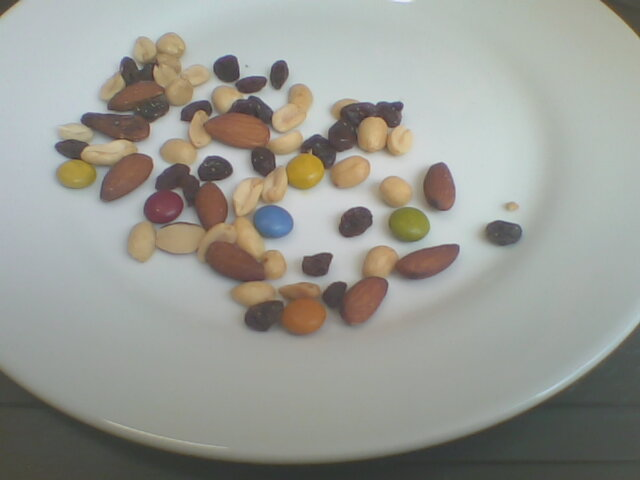almond: (100, 153, 153, 202), (396, 242, 461, 281), (340, 275, 388, 325), (205, 113, 269, 149), (81, 111, 150, 141), (194, 181, 227, 234), (108, 81, 164, 112), (424, 161, 455, 211)
mm: (282, 298, 325, 335), (388, 207, 431, 241), (286, 153, 325, 189), (144, 189, 184, 222), (254, 205, 293, 238), (57, 159, 97, 189)
peanut: (156, 222, 211, 254), (232, 217, 264, 264), (197, 223, 235, 262), (363, 246, 398, 281), (331, 156, 370, 187), (231, 281, 277, 307), (128, 221, 157, 261), (233, 177, 262, 217), (258, 166, 288, 204), (357, 116, 388, 152), (271, 103, 308, 133), (380, 175, 413, 207), (161, 139, 198, 165), (266, 129, 303, 155), (80, 144, 125, 165), (188, 110, 212, 148), (213, 85, 244, 113), (277, 282, 321, 301), (164, 78, 193, 105), (98, 72, 125, 101), (154, 32, 185, 56), (262, 250, 286, 280), (388, 126, 412, 156), (153, 63, 178, 91), (288, 83, 313, 111), (58, 123, 94, 142), (331, 97, 363, 118), (181, 64, 210, 86), (155, 52, 181, 76), (134, 36, 156, 62), (108, 139, 137, 156)
raisin: (245, 299, 285, 332), (304, 134, 336, 170), (155, 163, 192, 192), (339, 207, 373, 238), (133, 95, 169, 122), (485, 220, 521, 246), (197, 156, 232, 182), (247, 95, 275, 125), (329, 120, 355, 152), (373, 102, 404, 127), (252, 147, 276, 179), (301, 253, 333, 277), (320, 281, 347, 308), (214, 55, 240, 83), (55, 140, 91, 160), (181, 100, 214, 121), (269, 60, 289, 91), (120, 57, 140, 87), (183, 174, 200, 207), (236, 76, 267, 93), (227, 99, 254, 117), (139, 61, 155, 82)
